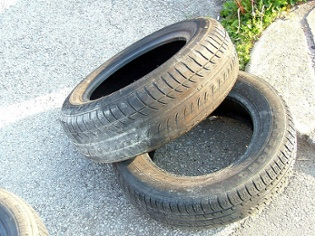tire: (110, 67, 298, 228), (59, 17, 241, 162)
